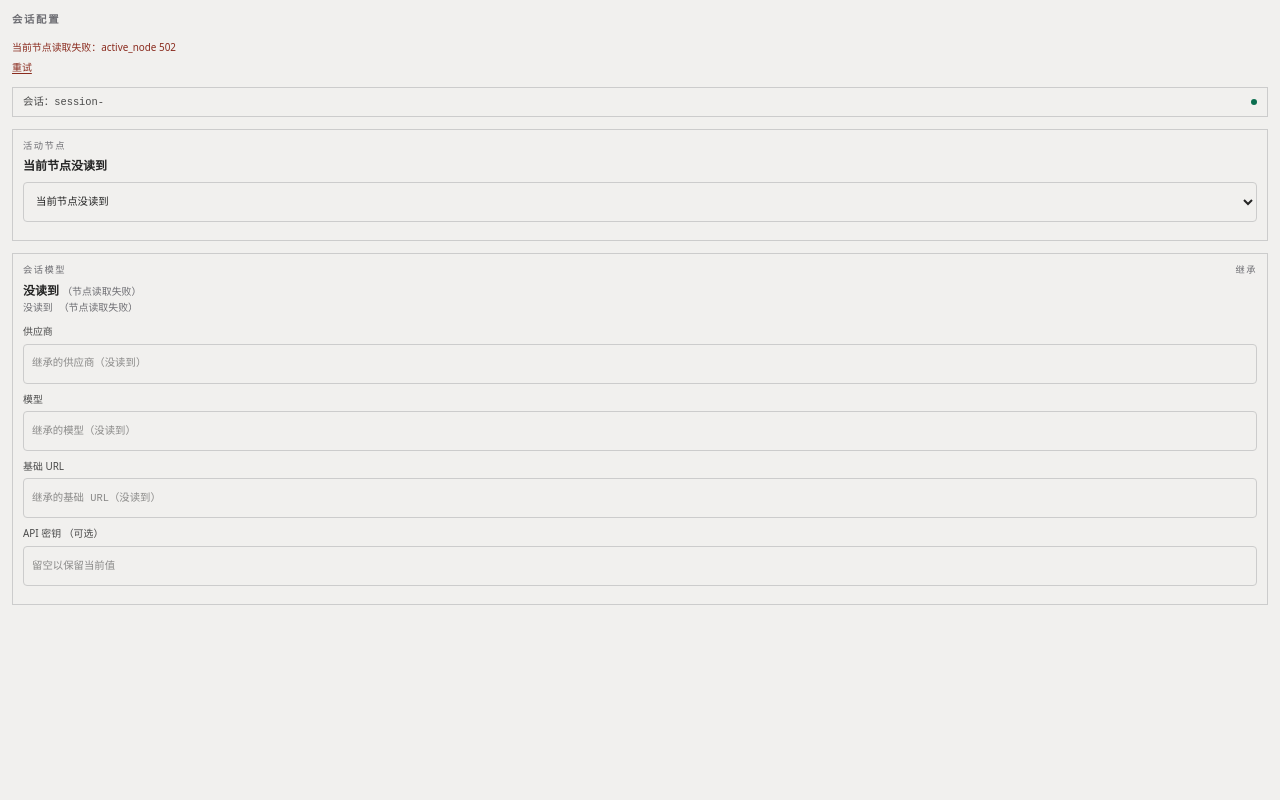
会话面板 › 当前节点没读到时下拉禁用并说没读到，重试读到了就能切
The image size is (1280, 800).
Expected: the message shows "当前节点读取失败：active_node 502", x1=12 y1=40 x2=176 y2=75
Expected: the dropdown is disabled, x1=23 y1=182 x2=1257 y2=222
Click the button "重试".
click(22, 67)  # box x1=12 y1=60 x2=32 y2=75
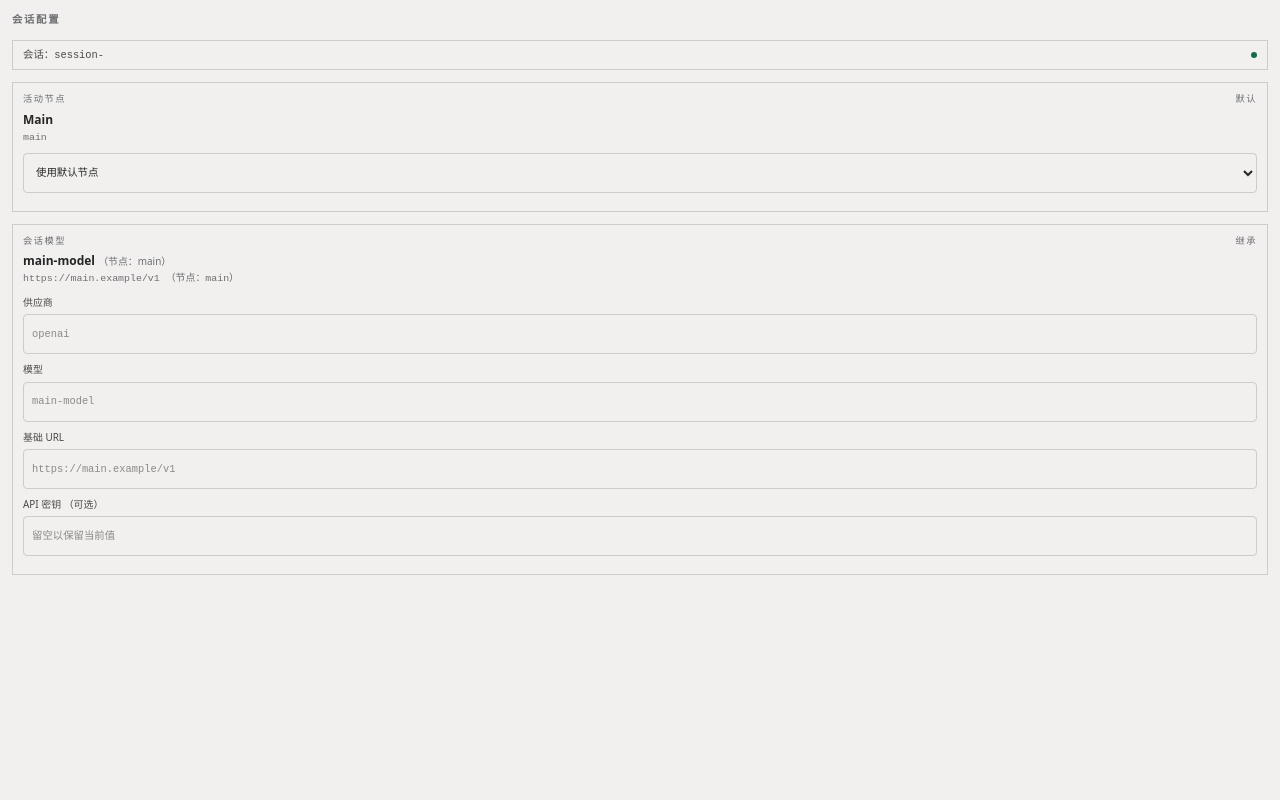
Expected: the dropdown is enabled, x1=23 y1=153 x2=1257 y2=193
Expected: the message "当前节点读取失败：active_node 502 重试" is gone
Expected: the text "Main" is shown, x1=23 y1=111 x2=53 y2=128
